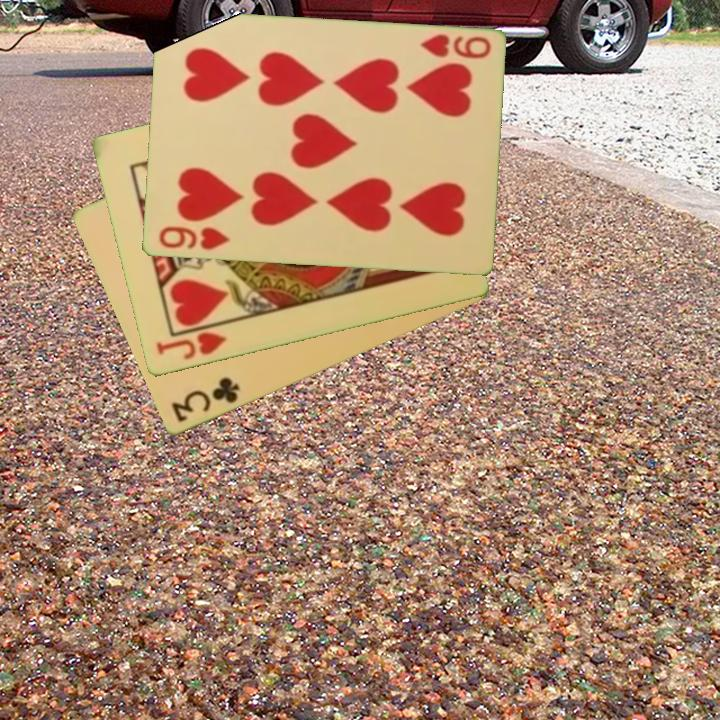3c: (167, 374, 243, 426)
9h: (416, 31, 493, 62), (155, 223, 232, 253)
Jh: (152, 320, 232, 363)
